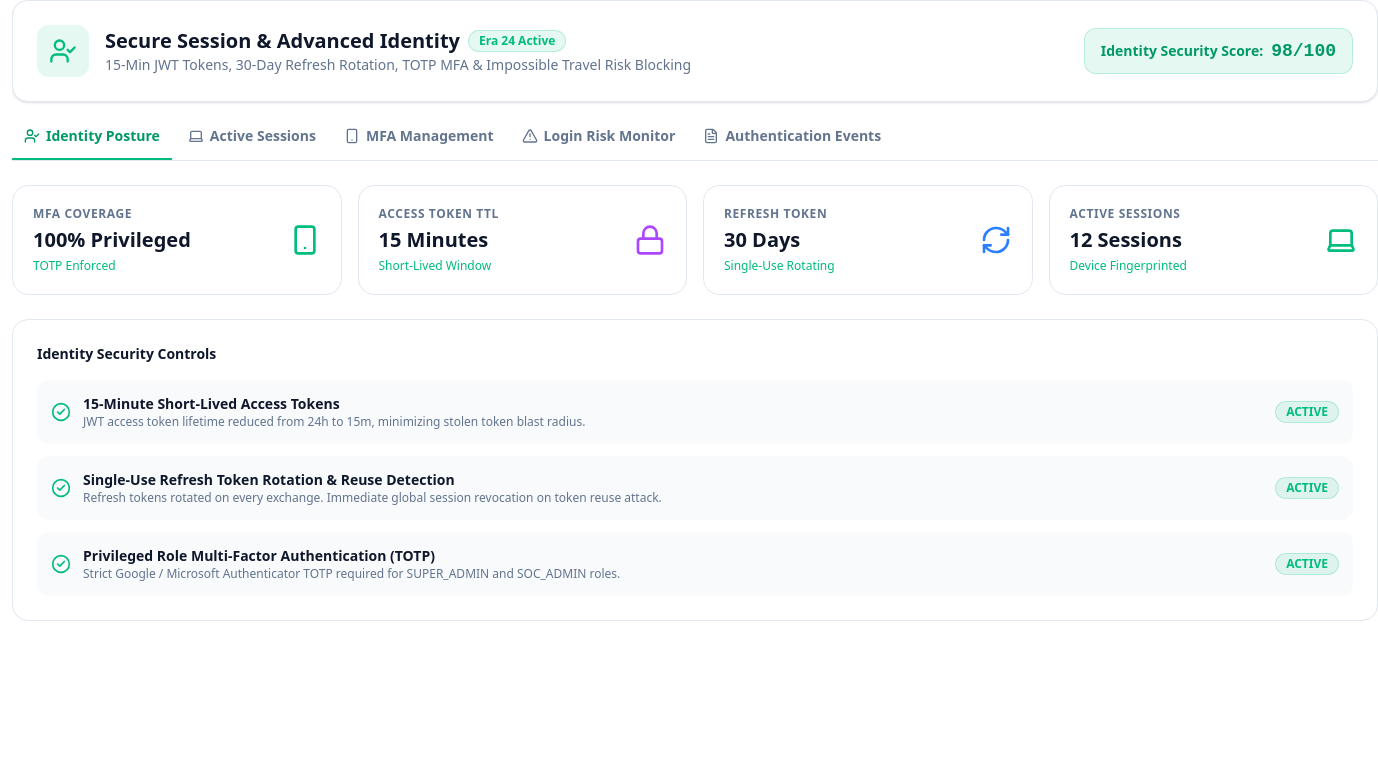
IdentitySecurityDashboard › clicking Login Risk Monitor tab shows impossible travel alerts
The image size is (1378, 768).
Click the button "Login Risk Monitor": (598, 143) [510, 126, 687, 160]
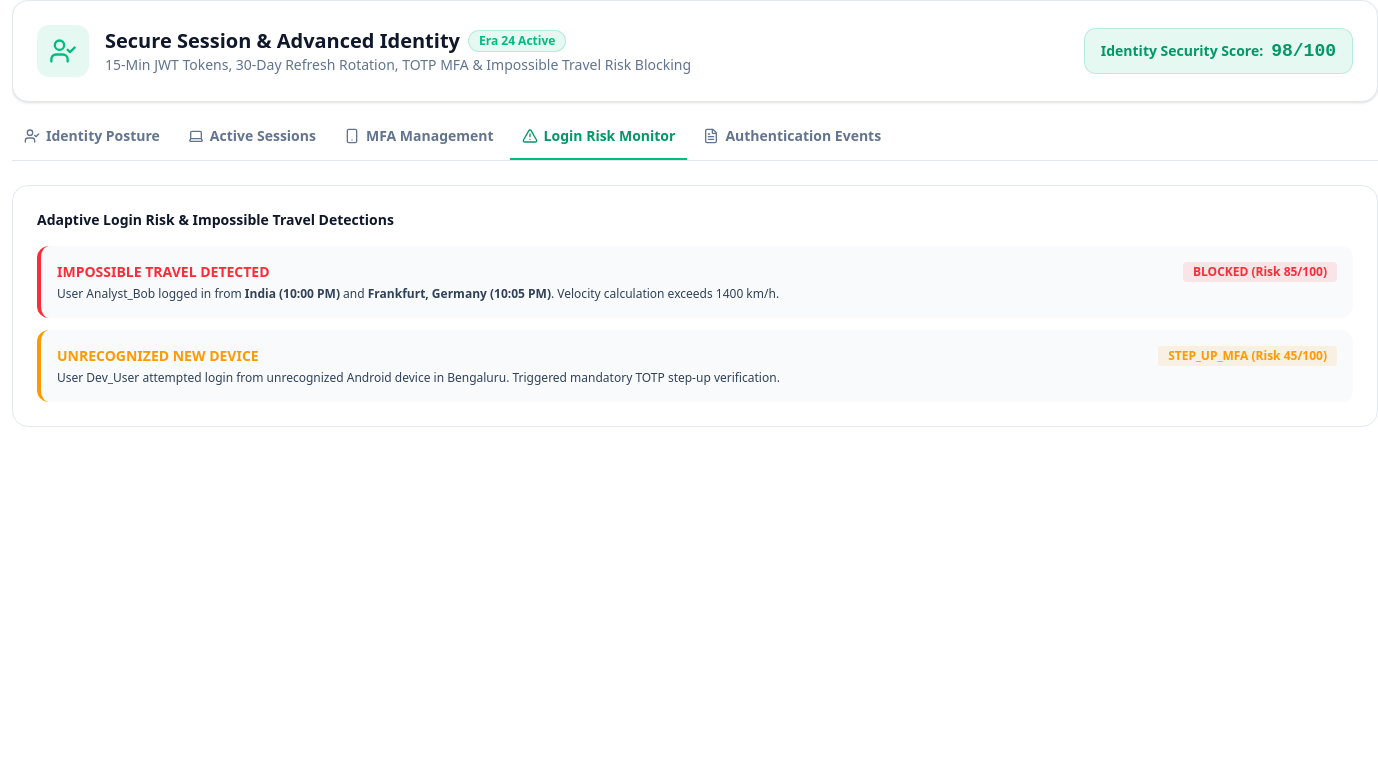
Expected: the text "IMPOSSIBLE TRAVEL DETECTED" is shown, [57, 262, 270, 282]
Expected: the text "UNRECOGNIZED NEW DEVICE" is shown, [57, 346, 259, 366]
